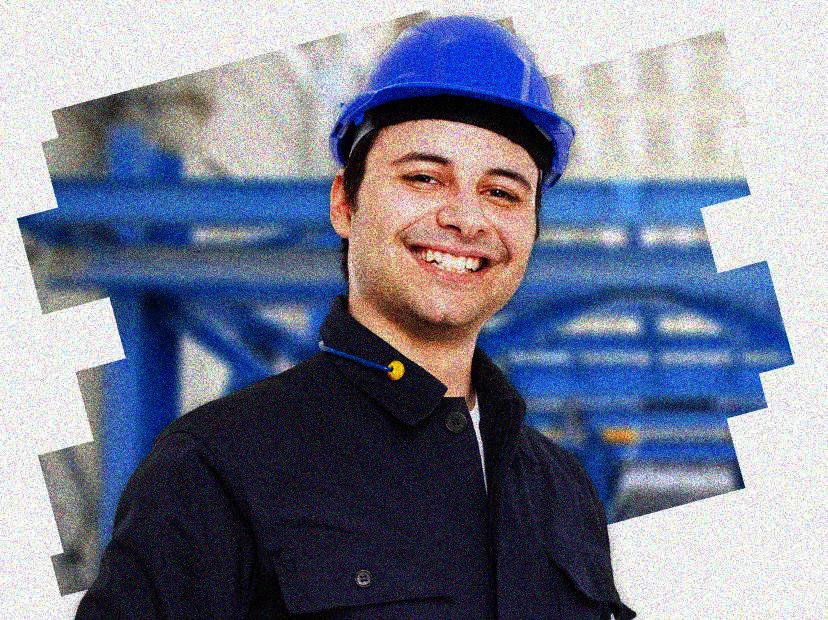helmet: (322, 18, 574, 331)
